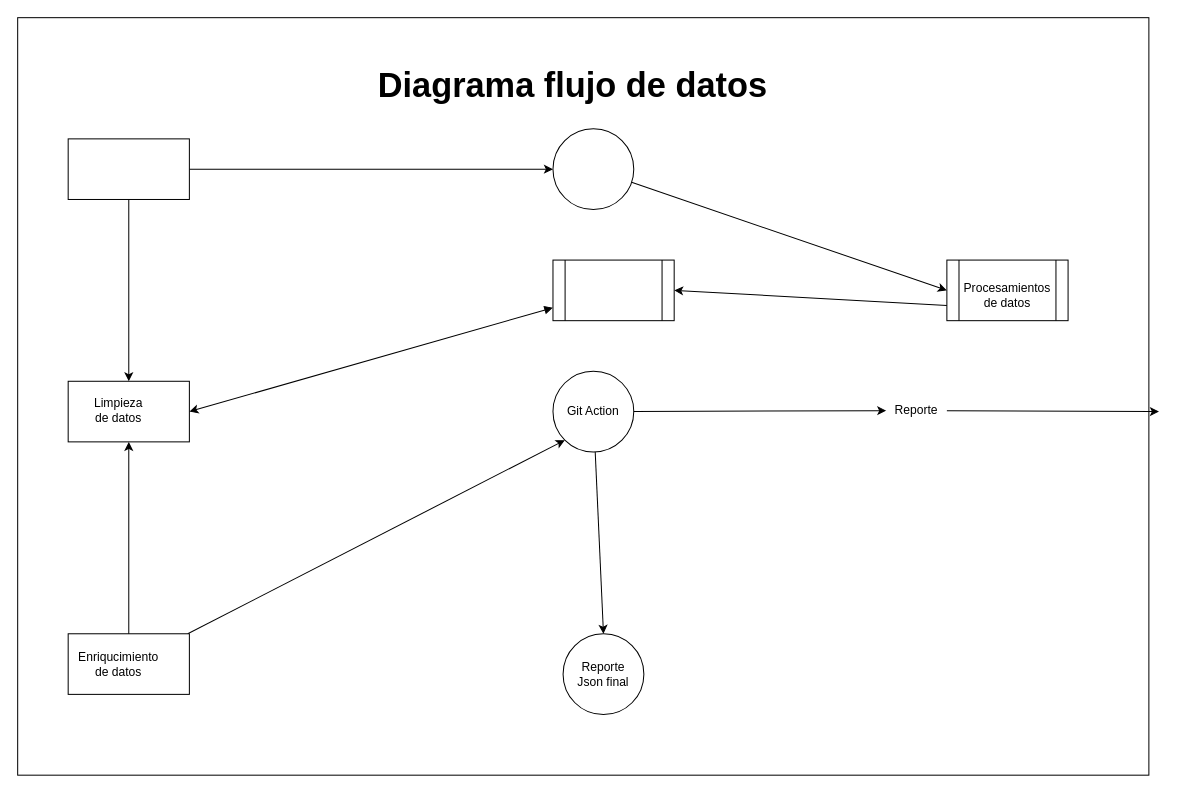
Image size: 1185x793. Some labels were removed from this diagram. Here are the shapes that lost their labels. From the top down, the box of each, then its label:
(67, 138, 189, 199): Ingestion de datos
(552, 128, 634, 210): Base de datos
(552, 259, 674, 321): Auditoria d atos
